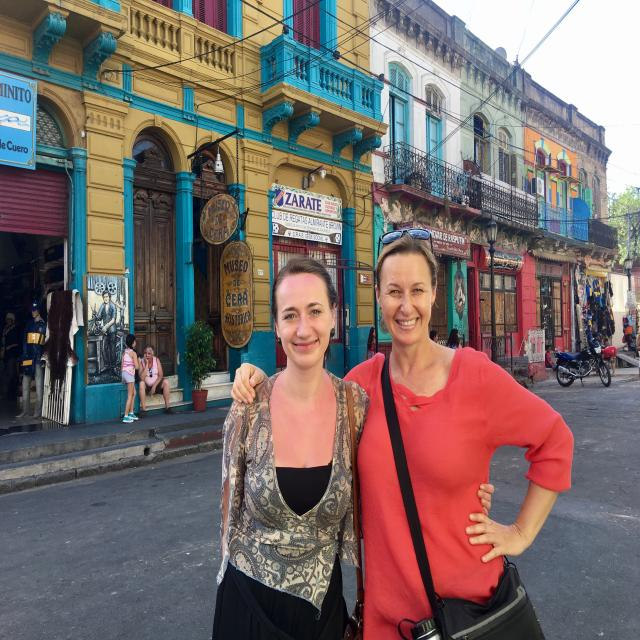body: (230, 225, 582, 640), (206, 252, 499, 640), (1, 300, 46, 424), (136, 341, 177, 419), (92, 288, 121, 380), (119, 332, 141, 425), (449, 264, 466, 324), (587, 332, 611, 361), (544, 345, 564, 378), (600, 346, 618, 377), (364, 326, 376, 362), (586, 302, 600, 332), (445, 328, 463, 349), (635, 332, 640, 382), (429, 329, 439, 344)
